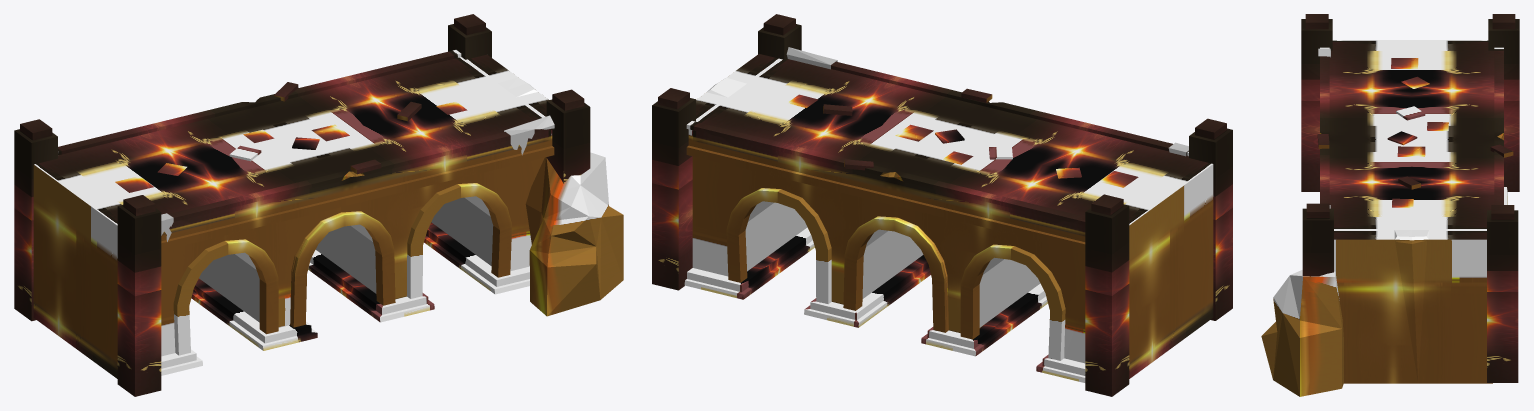
The model's file is Qiao.FBX.
The picture shows the model from 3 angles, left to right: view 1: azimuth 30°, elevation 25°; view 2: azimuth 150°, elevation 25°; view 3: azimuth 270°, elevation 25°; orthographic projection. The views are drawn at different scales.
Visible parts, largest first — view 1: Object007; view 2: Object007; view 3: Object007.
Part boxes in pixels (x1,y1,x2,y2): Object007: (14, 14, 623, 396); Object007: (652, 14, 1232, 396); Object007: (1261, 14, 1519, 396).
Size of the model in its own units: 1737 by 881 by 659.
